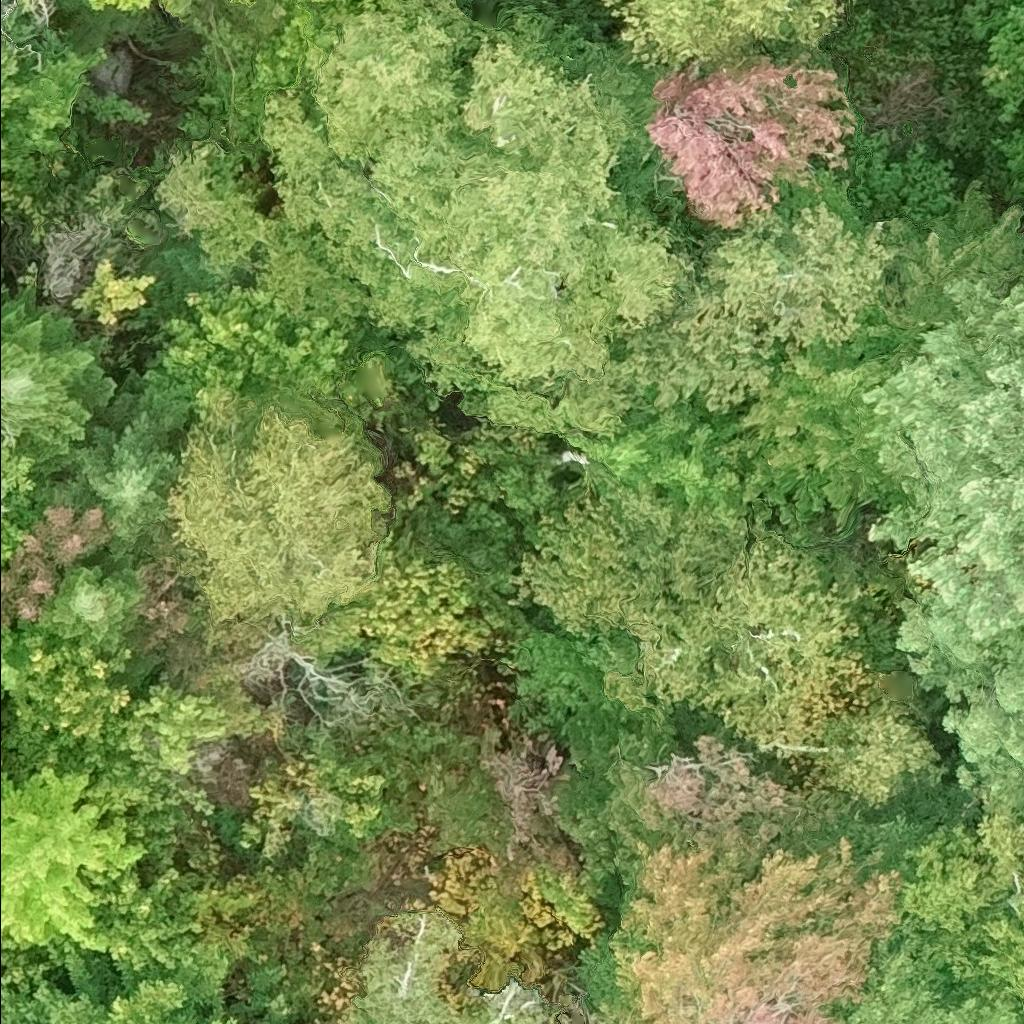crown: (260, 0, 698, 395), (506, 485, 949, 810), (860, 271, 1023, 793), (562, 201, 900, 424), (617, 831, 910, 1023), (166, 383, 384, 630), (545, 709, 847, 887), (154, 137, 396, 333), (644, 50, 857, 233), (733, 341, 911, 535), (844, 184, 1023, 354), (0, 762, 151, 953), (37, 368, 179, 562), (147, 285, 349, 406), (901, 805, 1023, 1002), (0, 281, 119, 480), (354, 526, 494, 683), (566, 397, 745, 506), (340, 898, 494, 1023), (0, 943, 239, 1023), (611, 0, 841, 76), (93, 864, 229, 974), (0, 45, 110, 179), (0, 501, 112, 627), (252, 0, 381, 100), (39, 554, 145, 654), (957, 0, 1023, 125), (64, 256, 158, 328), (143, 232, 214, 316), (0, 513, 29, 565), (84, 0, 154, 13), (0, 733, 4, 778), (603, 0, 622, 5), (13, 0, 36, 2), (237, 0, 248, 2)
